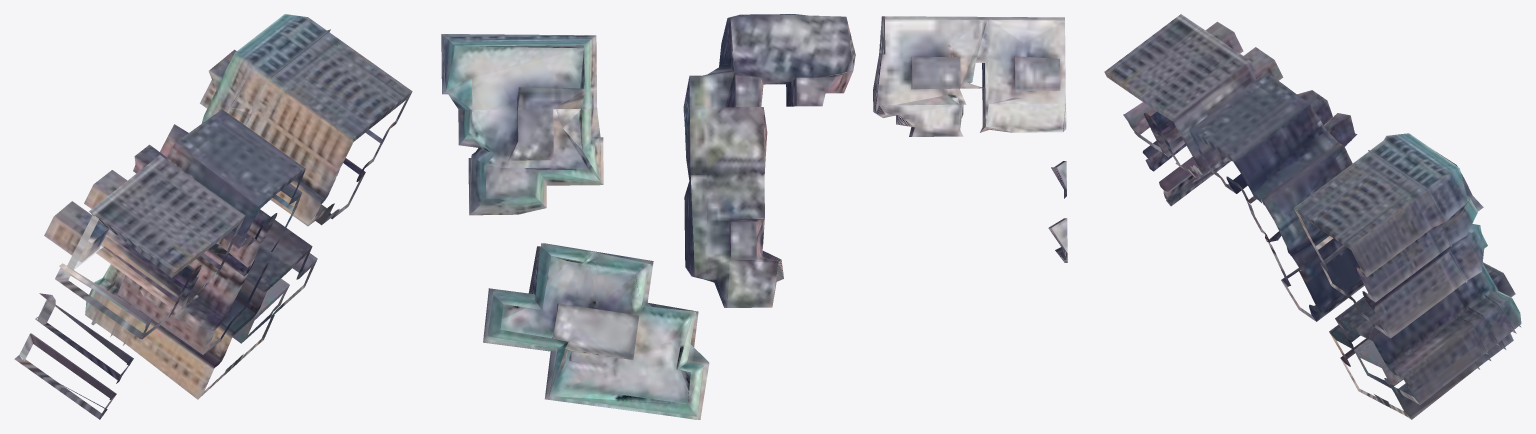
3 views of the same model, side by side, from view 1: azimuth 30°, elevation 25°; view 2: azimuth 150°, elevation 25°; view 3: azimuth 270°, elevation 25° (orthographic). The views are drawn at different scales.
Size of the model in its own units: 124 by 81.09 by 107.
Materials: 2 (2 with a texture image).
